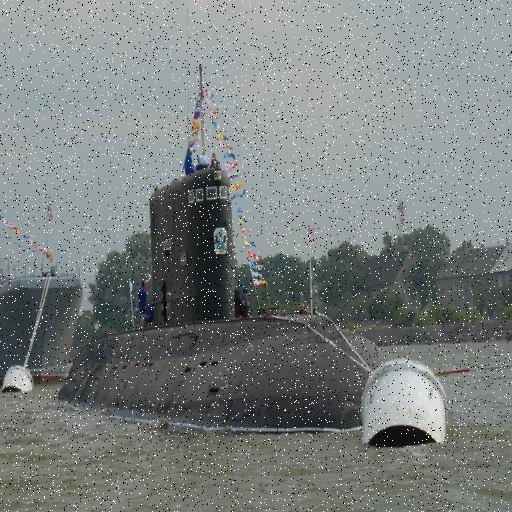submarine: (63, 164, 404, 424)
